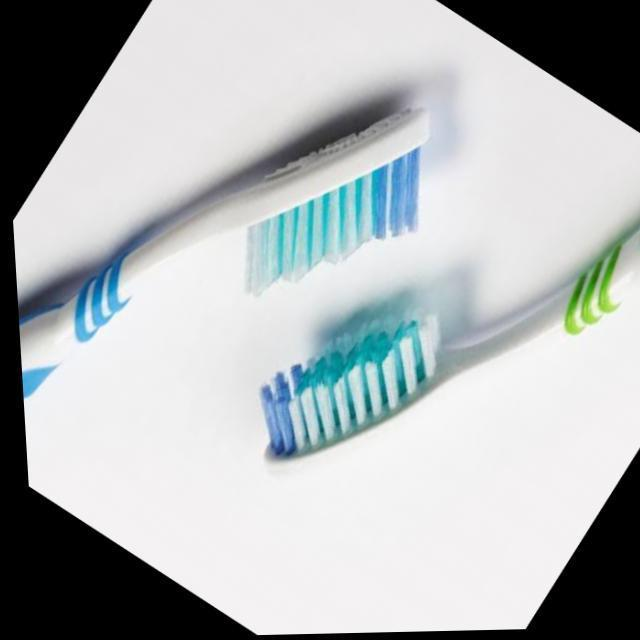toothbrush: (15, 104, 421, 395), (251, 222, 640, 484)
